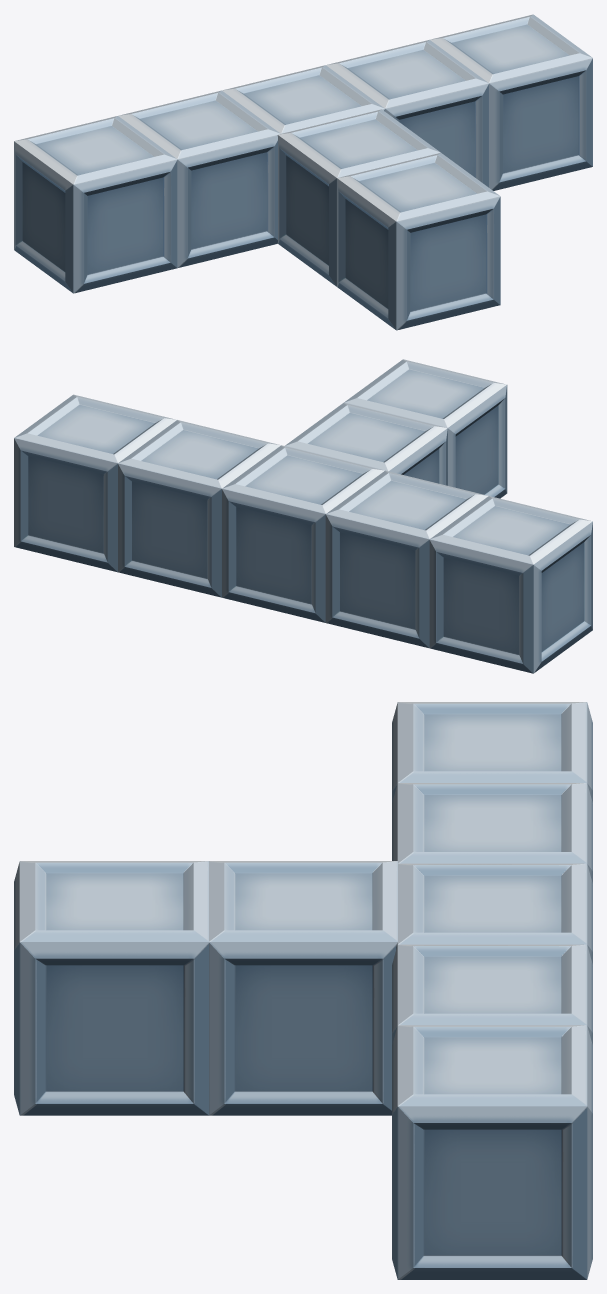
Rendered from PrototypeT3.fbx.
3 renders of one model, top to bottom at view 1: azimuth 30°, elevation 25°; view 2: azimuth 150°, elevation 25°; view 3: azimuth 270°, elevation 25°, orthographic. The views are drawn at different scales.
Parts seen in each view (by area): view 1: polySurface1; view 2: polySurface1; view 3: polySurface1.
Boxes of the visible parts, left/top/right/bottom form: polySurface1: left=14, top=14, right=592, bottom=330; polySurface1: left=14, top=359, right=592, bottom=673; polySurface1: left=14, top=702, right=592, bottom=1279.
Bounding box in the file's own units: 4.4 × 0.9244 × 2.63.
Materials: 2 (1 with a texture image).
